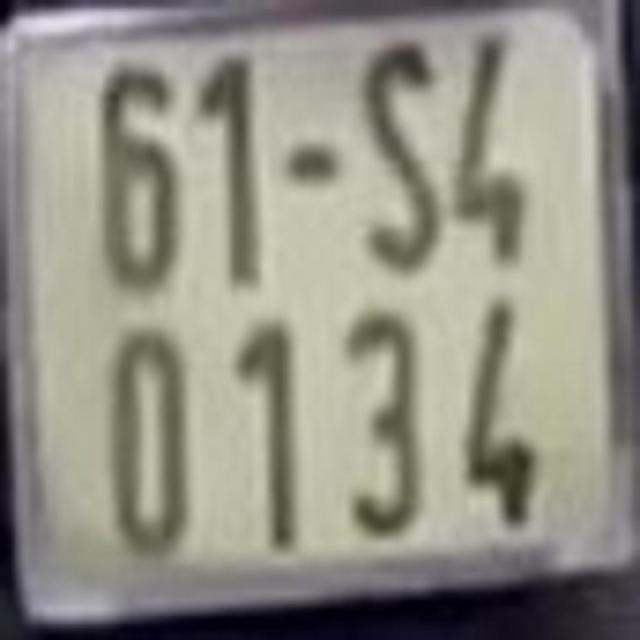0: (110, 328, 190, 557)
1: (197, 47, 272, 292), (227, 313, 303, 553)
3: (338, 302, 424, 542)
4: (461, 291, 542, 536), (452, 34, 533, 265)
6: (94, 58, 180, 290)
S: (356, 32, 443, 279)
